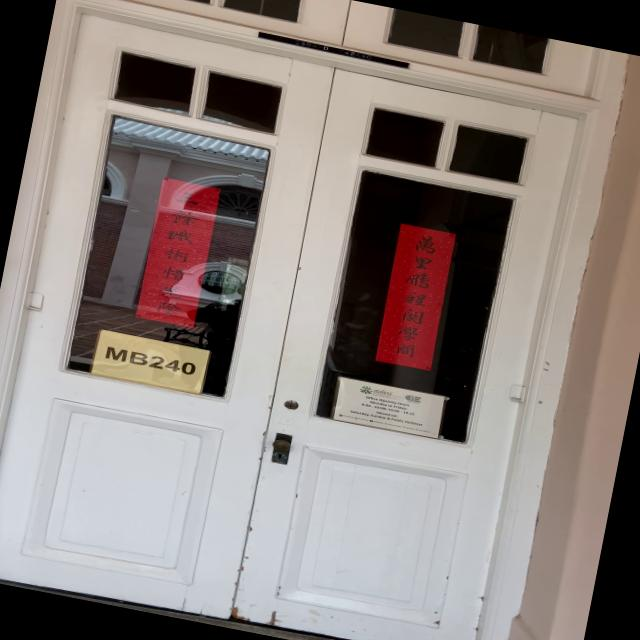room240: (96, 332, 206, 388)
